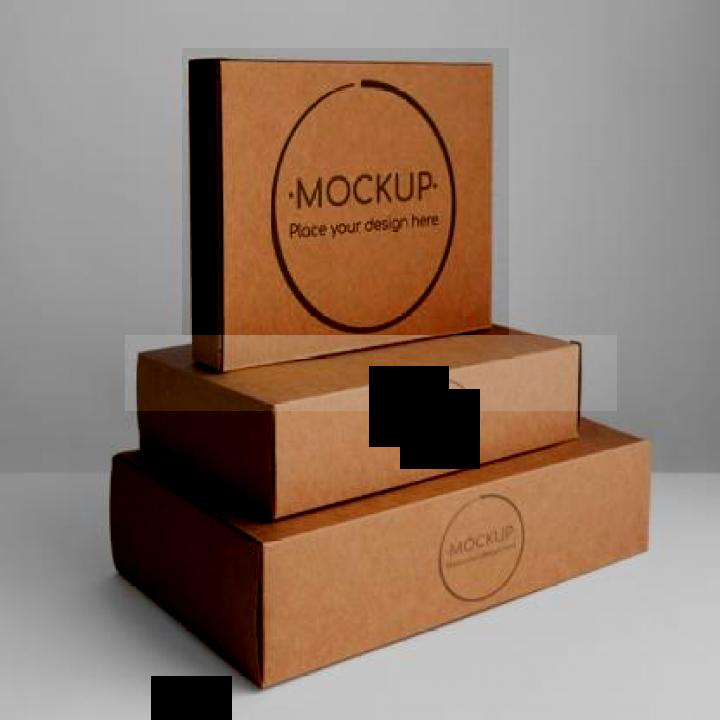box: (102, 412, 679, 697), (182, 48, 509, 378), (125, 336, 617, 530)
